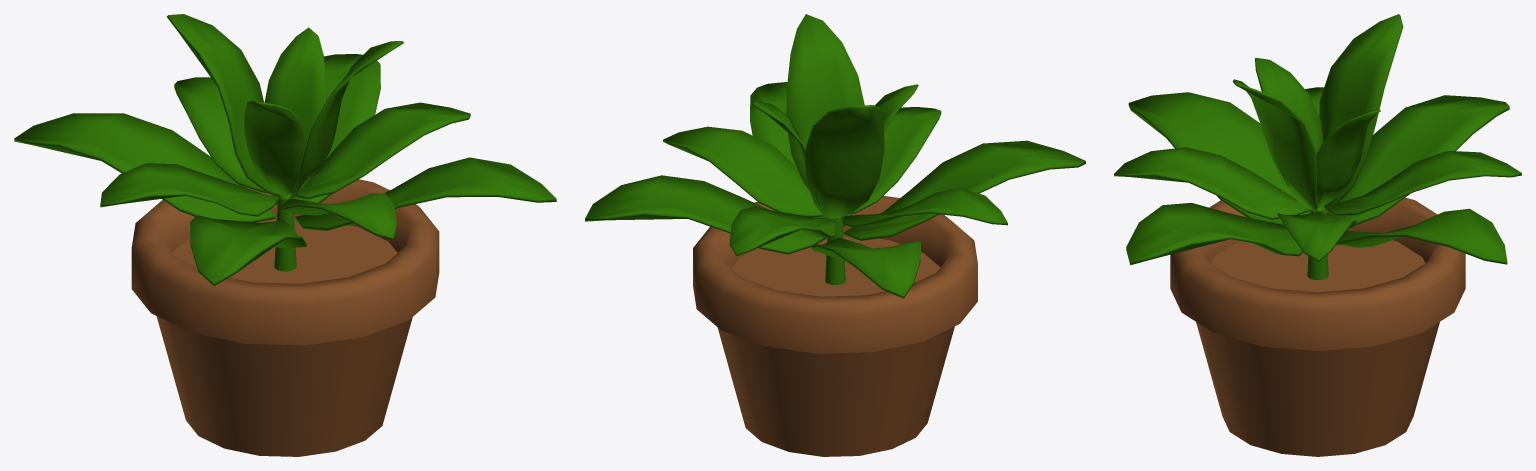
The model's file is Planta 01.fbx.
3 views of the same model, side by side, from view 1: azimuth 30°, elevation 25°; view 2: azimuth 150°, elevation 25°; view 3: azimuth 270°, elevation 25° (orthographic). The views are drawn at different scales.
Parts seen in each view (by area): view 1: Circle.003; view 2: Circle.003; view 3: Circle.003.
Boxes of the visible parts, bbox=[...] form: Circle.003: bbox=[14, 14, 556, 456]; Circle.003: bbox=[585, 14, 1085, 456]; Circle.003: bbox=[1114, 14, 1521, 456].
Size of the model in its own units: 104 by 103 by 104.
